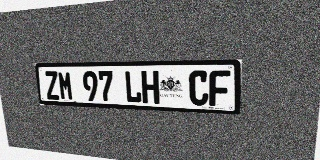7: (97, 71, 114, 102)
9: (82, 71, 99, 101)
C: (189, 70, 209, 106)
F: (209, 70, 230, 107)
H: (141, 71, 159, 104)
L: (124, 71, 142, 103)
M: (57, 71, 74, 100)
Z: (44, 71, 60, 100)
